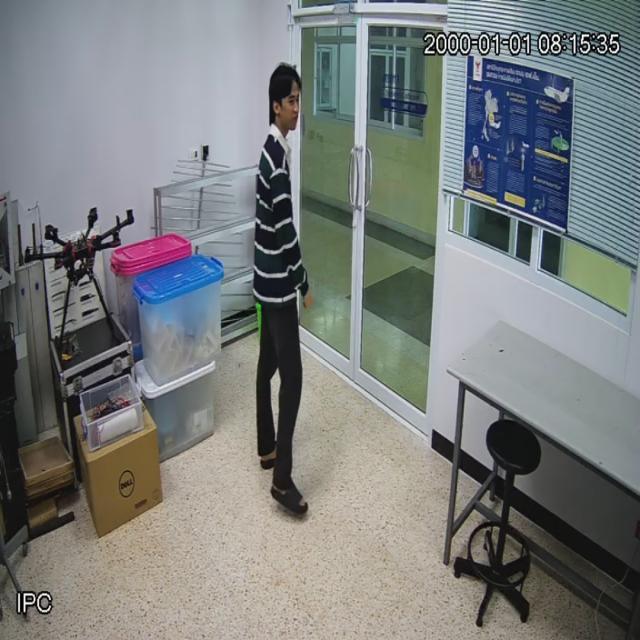normal: (258, 66, 312, 508)
